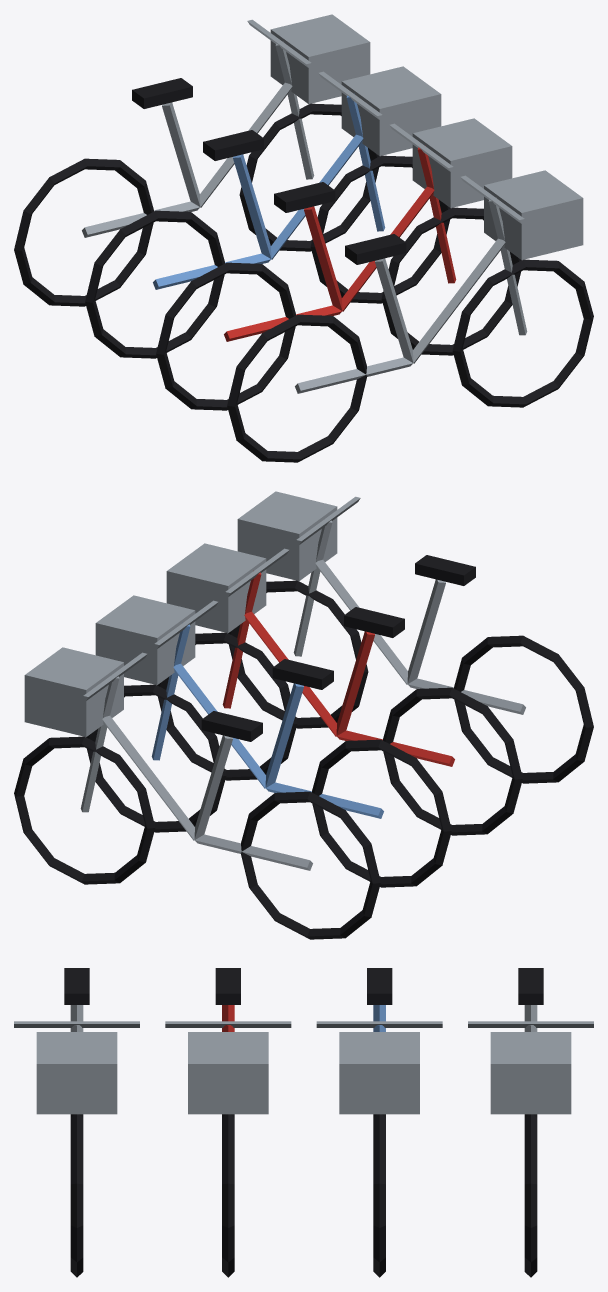
File: cyklar.glb
3 views of the same model, one above another, from view 1: azimuth 30°, elevation 25°; view 2: azimuth 150°, elevation 25°; view 3: azimuth 270°, elevation 25° (orthographic). The views are drawn at different scales.
Parts seen in each view (by area): view 1: cyklar; view 2: cyklar; view 3: cyklar.
Part boxes in pixels (x1,y1,x2,y2): cyklar: [14, 14, 593, 462]; cyklar: [14, 491, 593, 939]; cyklar: [14, 968, 593, 1277].
Size of the model in its own units: 1.79 by 1.01 by 2.3.
